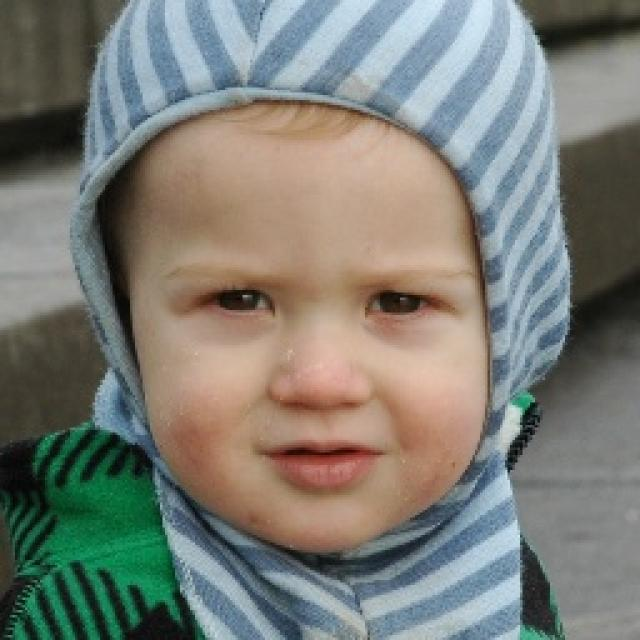eye: (196, 284, 283, 321), (361, 286, 439, 318)
nose: (272, 389, 370, 433)
